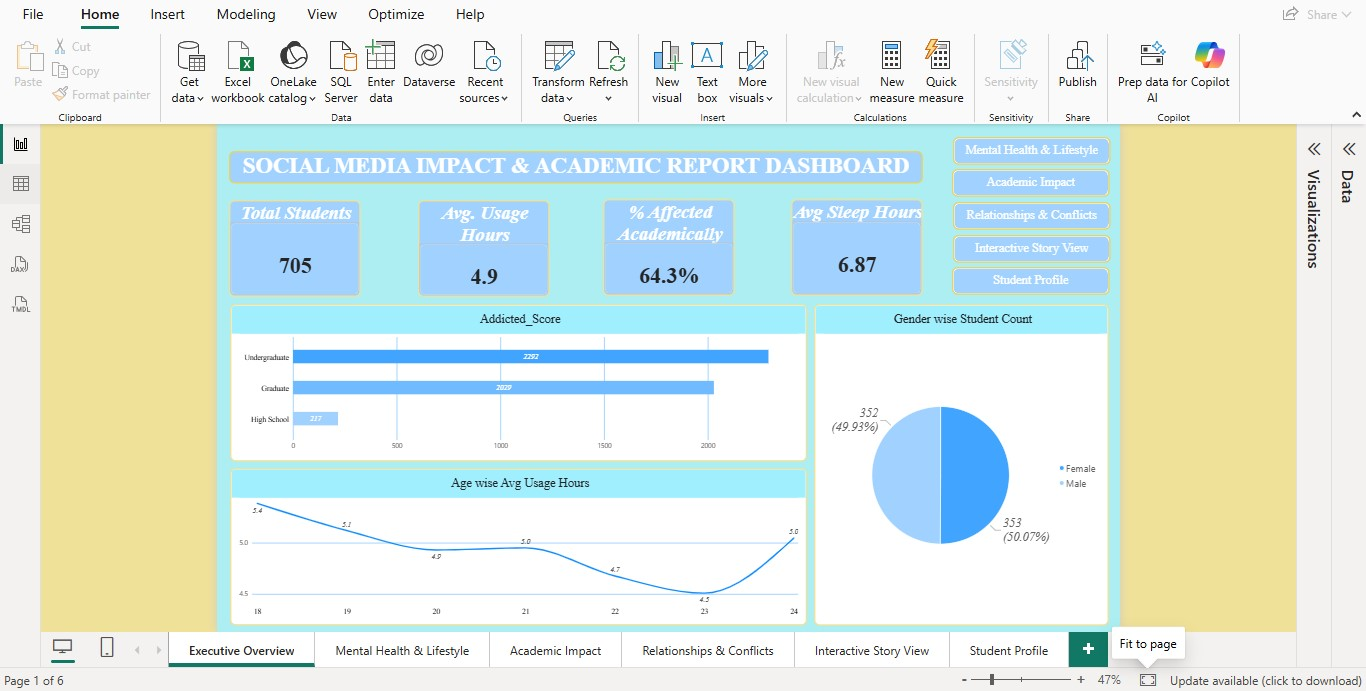

The dashboard page shown, as its layout file describes it:
{"tool":"powerbi","page":{"name":"Executive Overview","canvas":[1920,1080],"ordinal":0},"visuals":[{"type":"cardVisual","title":"Total Students","fields":{"Data":["Student_Details.Total Students"]},"box":[24.8,161.2,280.2,205.8],"z":0},{"type":"cardVisual","title":"Avg. Usage Hours","fields":{"Data":["Student_Details.Avg Usage Hours"]},"box":[426.5,161.2,280,206],"z":1000},{"type":"cardVisual","title":"% Affected Academically","fields":{"Data":["Student_Details.% Affected Academically"]},"box":[820.7,158.7,280.2,205.8],"z":2000},{"type":"cardVisual","title":"Avg Sleep Hours","fields":{"Data":["Avg(Student_Details.Avg Sleep Hours)"]},"box":[1219.9,158.7,280.2,205.8],"z":3000},{"type":"barChart","title":"Addicted_Score","fields":{"Category":["Student_Details.Academic_Level"],"Y":["Sum(Student_Details.Addicted_Score)"]},"box":[27.3,381.9,1227.4,334.7],"z":4000},{"type":"lineChart","title":"Age wise Avg Usage Hours","fields":{"Category":["Student_Details.Age"],"Y":["Student_Details.Avg Usage Hours"]},"box":[27.3,731.5,1227.4,334.7],"z":5000},{"type":"pieChart","title":"Gender wise Student Count","fields":{"Category":["Student_Details.Gender"],"Y":["CountNonNull(Student_Details.Student_ID)"]},"box":[1269.5,381.9,627.3,684.4],"z":6000},{"type":"actionButton","box":[1564.6,27.3,334.7,59.5],"z":7000},{"type":"actionButton","box":[1562.1,96.7,334.7,59.5],"z":8000},{"type":"actionButton","box":[1564.6,166.1,334.7,59.5],"z":9000},{"type":"actionButton","box":[1564.6,235.6,334.7,59.5],"z":10000},{"type":"actionButton","box":[1562.1,305,334.7,59.5],"z":11000},{"type":"textbox","box":[24.8,57,1475.3,69.4],"z":12000}]}

Visuals, with their boxes on the page's 1920x1080 design canvas (x1, y1, x2, y2). These are canvas units, not pixel positions in the 1366x691 screenshot, which may show the page scaled, cropped or inside an application window:
"Total Students" cardVisual: l=25, t=161, r=305, b=367
"Avg. Usage Hours" cardVisual: l=426, t=161, r=706, b=367
"% Affected Academically" cardVisual: l=821, t=159, r=1101, b=364
"Avg Sleep Hours" cardVisual: l=1220, t=159, r=1500, b=364
"Addicted_Score" barChart: l=27, t=382, r=1255, b=717
"Age wise Avg Usage Hours" lineChart: l=27, t=732, r=1255, b=1066
"Gender wise Student Count" pieChart: l=1270, t=382, r=1897, b=1066
actionButton: l=1565, t=27, r=1899, b=87
actionButton: l=1562, t=97, r=1897, b=156
actionButton: l=1565, t=166, r=1899, b=226
actionButton: l=1565, t=236, r=1899, b=295
actionButton: l=1562, t=305, r=1897, b=364
textbox: l=25, t=57, r=1500, b=126
